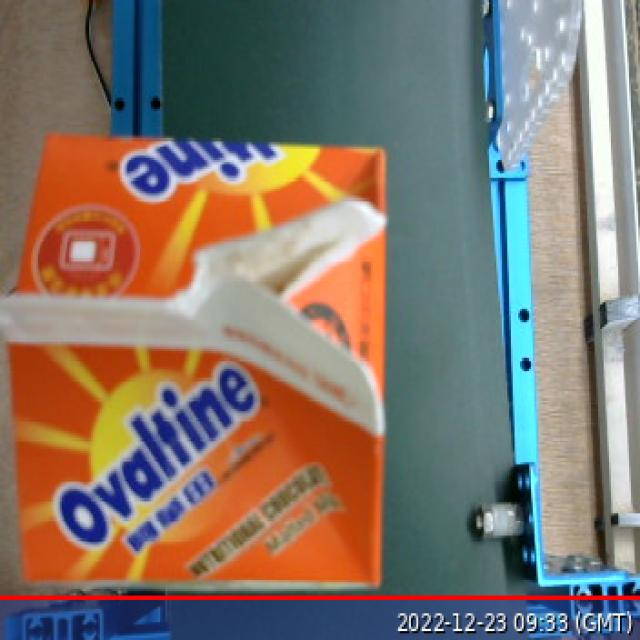non_white_jug: (1, 113, 399, 601)
